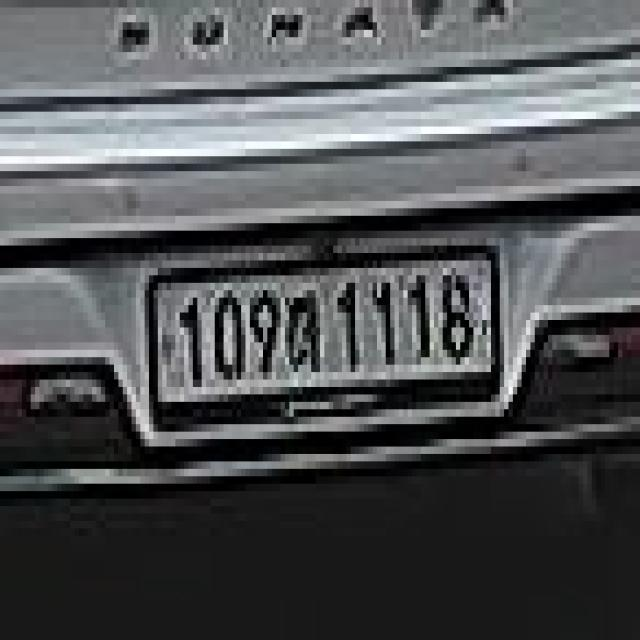illegal_plate: (142, 246, 507, 425)
